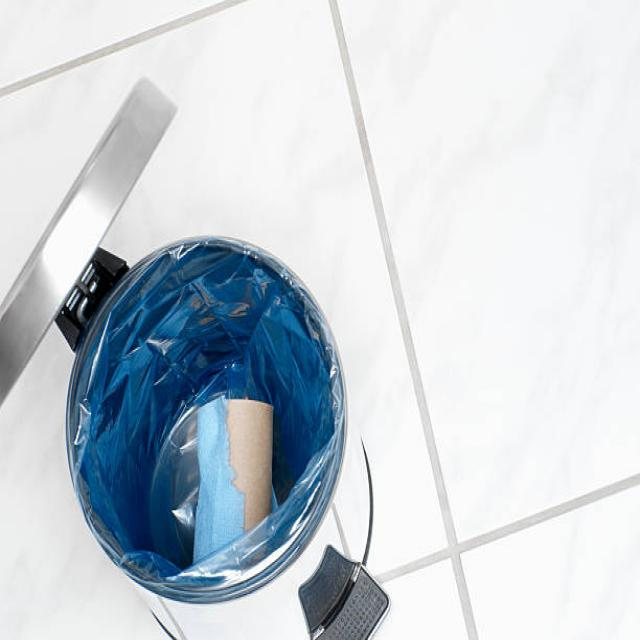cardboard: (159, 402, 299, 554)
